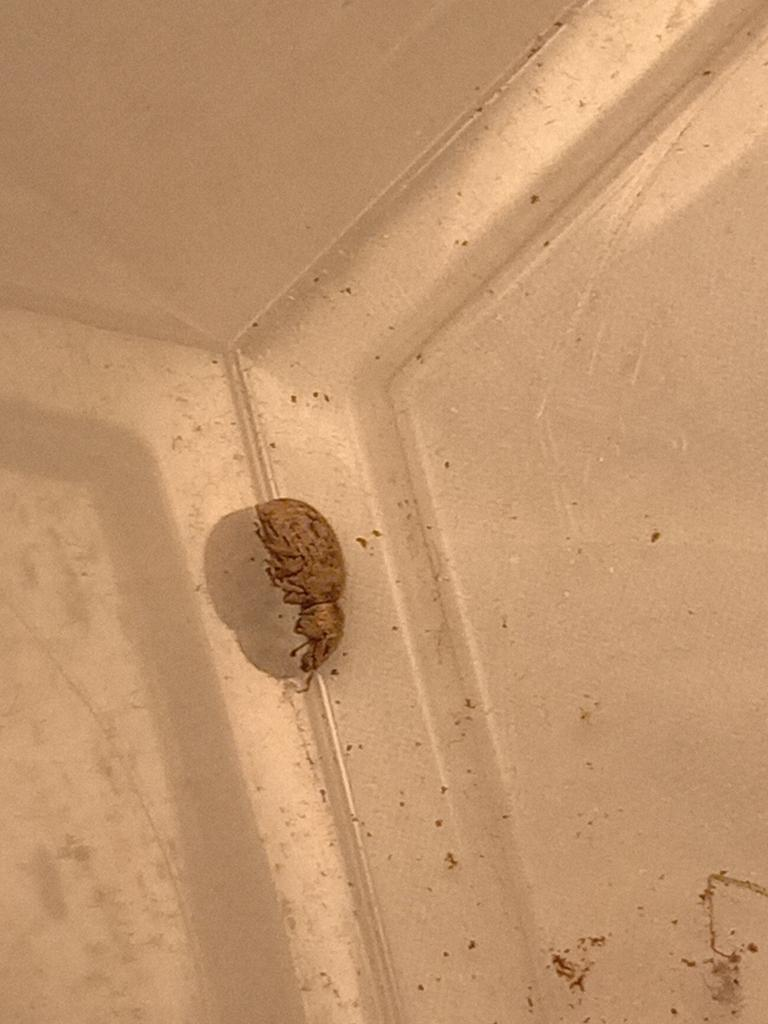weevils: (199, 449, 419, 724)
